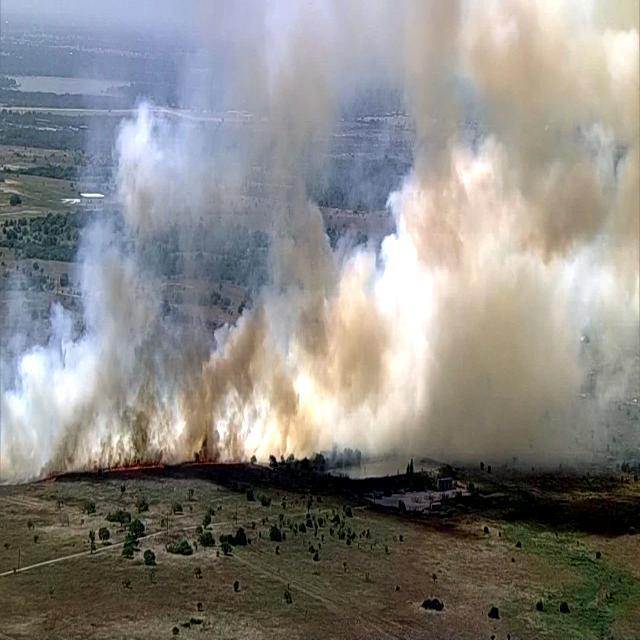Smoke: (15, 0, 621, 501)
